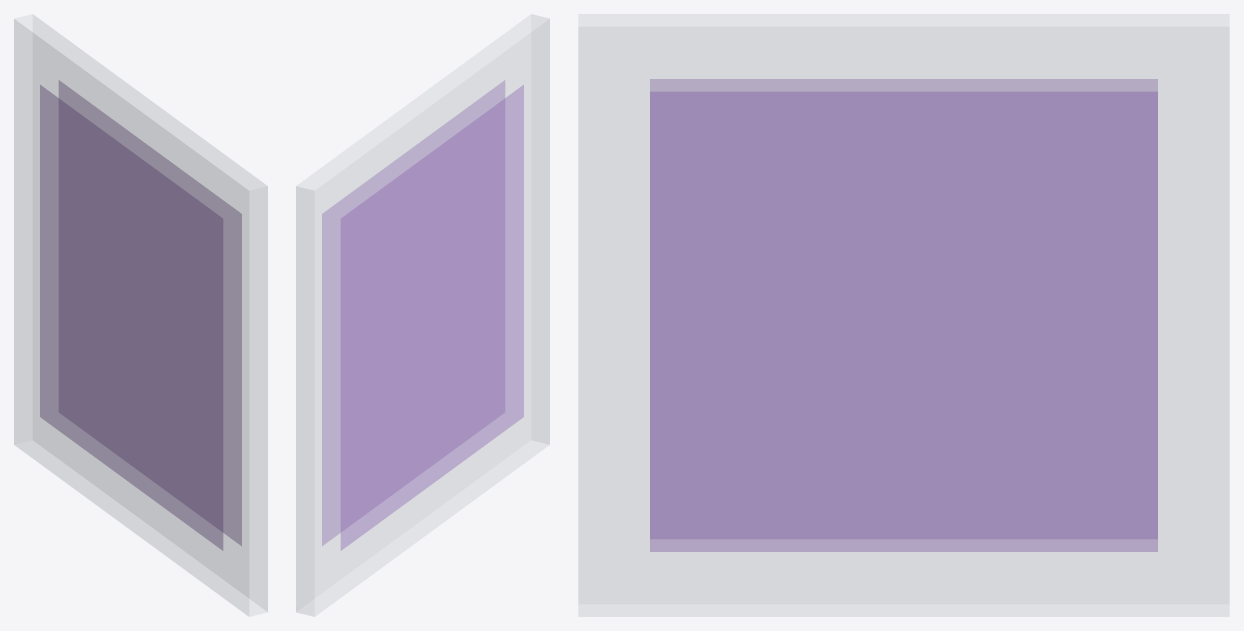
The model's file is specimen-frame.glb.
3 views of the same model, side by side, from view 1: azimuth 30°, elevation 25°; view 2: azimuth 150°, elevation 25°; view 3: azimuth 270°, elevation 25° (orthographic). The views are drawn at different scales.
Visible parts, largest first — view 1: SPECIMEN_FRAME_MATERIAL_SLOTS; view 2: SPECIMEN_FRAME_MATERIAL_SLOTS; view 3: SPECIMEN_FRAME_MATERIAL_SLOTS.
Boxes of the visible parts, x1,y1,x2,y2 form: SPECIMEN_FRAME_MATERIAL_SLOTS: [14, 14, 267, 616]; SPECIMEN_FRAME_MATERIAL_SLOTS: [296, 14, 549, 616]; SPECIMEN_FRAME_MATERIAL_SLOTS: [578, 14, 1229, 616].
Bounding box in the file's own units: 0.42 × 9.1 × 9.1.
